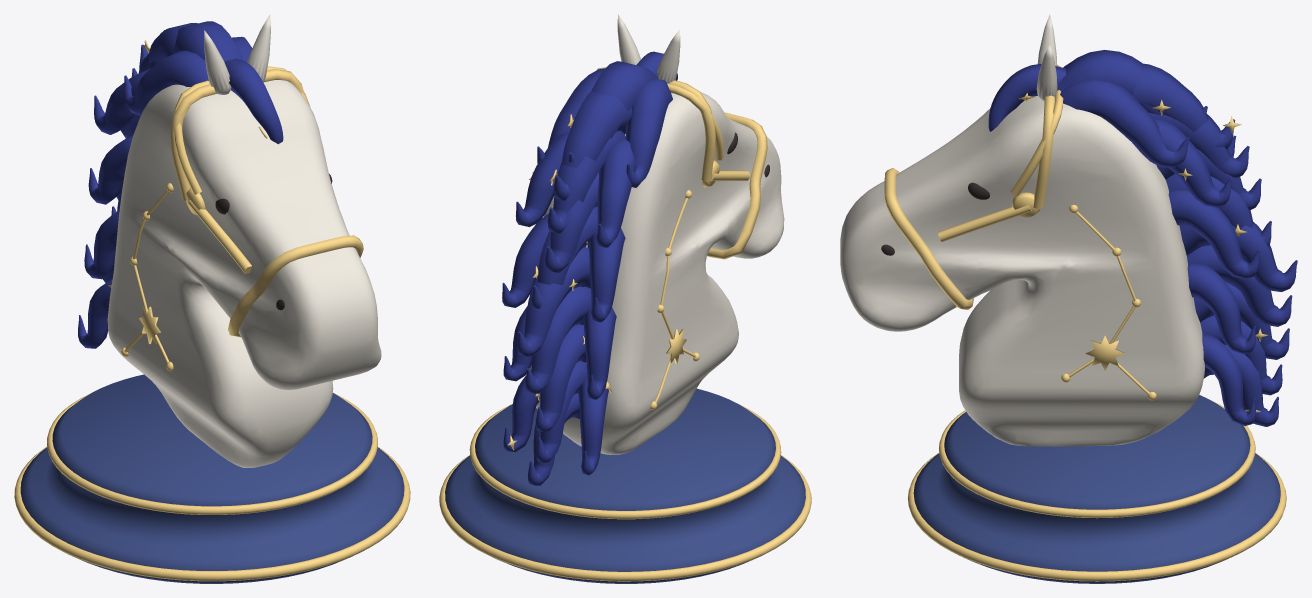
File: horse-piece.glb
The picture shows the model from 3 angles, left to right: view 1: azimuth 30°, elevation 25°; view 2: azimuth 150°, elevation 25°; view 3: azimuth 270°, elevation 25°; orthographic projection. The views are drawn at different scales.
Parts seen in each view (by area): view 1: horse_spirit, horse_base; view 2: horse_spirit, horse_base; view 3: horse_spirit, horse_base.
Boxes of the visible parts, <box> form: horse_spirit: <box>78,14,381,467</box>; horse_base: <box>14,374,410,583</box>; horse_spirit: <box>502,14,784,485</box>; horse_base: <box>439,388,811,583</box>; horse_spirit: <box>840,14,1297,446</box>; horse_base: <box>907,395,1286,583</box>.
Bounding box in the file's own units: 0.9654 × 1.35 × 1.17.
